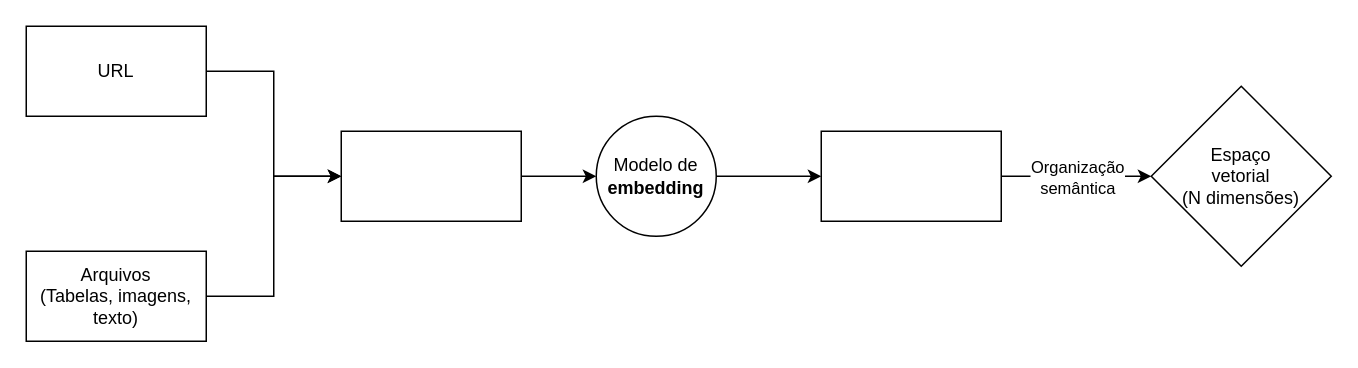
Image size: 1358x368. Some labels were removed from this diagram. Each missing label, with the centre of its shape:
"Pré-processamento" goes at point (430, 175).
"Vetor númerico" goes at point (910, 175).
